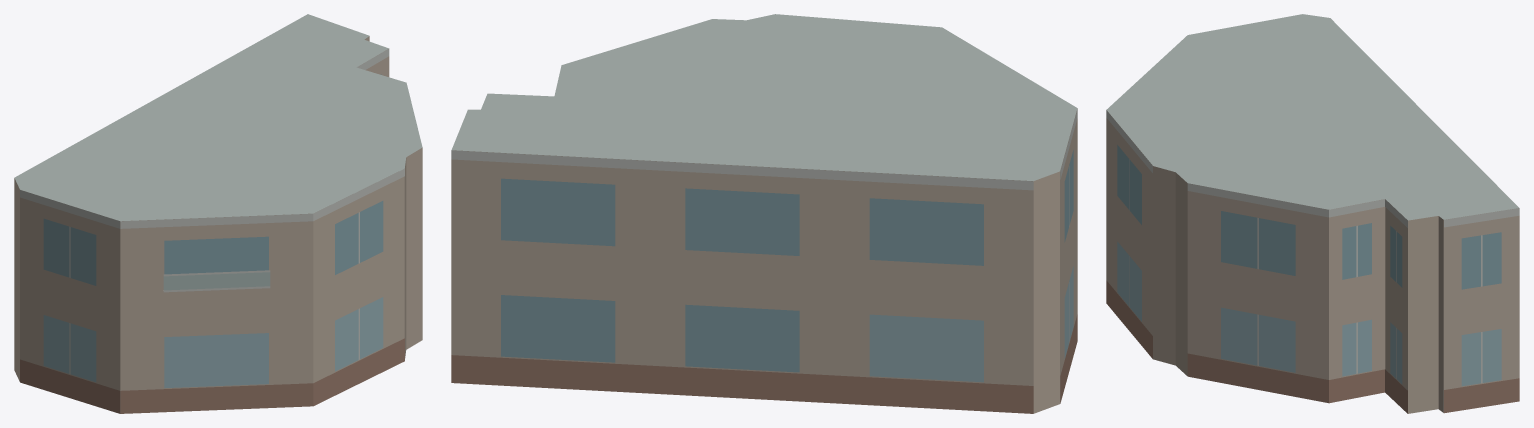
File: survey-upis-32680503.glb
3 views of the same model, side by side, from view 1: azimuth 30°, elevation 25°; view 2: azimuth 150°, elevation 25°; view 3: azimuth 270°, elevation 25° (orthographic). The views are drawn at different scales.
Visible parts, largest first — view 1: survey-upis-32680503.tmp; view 2: survey-upis-32680503.tmp; view 3: survey-upis-32680503.tmp.
Boxes of the visible parts, x1,y1,x2,y2 form: survey-upis-32680503.tmp: [14, 14, 422, 413]; survey-upis-32680503.tmp: [451, 14, 1077, 413]; survey-upis-32680503.tmp: [1106, 14, 1519, 413].
Bounding box in the file's own units: 13.98 × 6.1 × 11.82.
